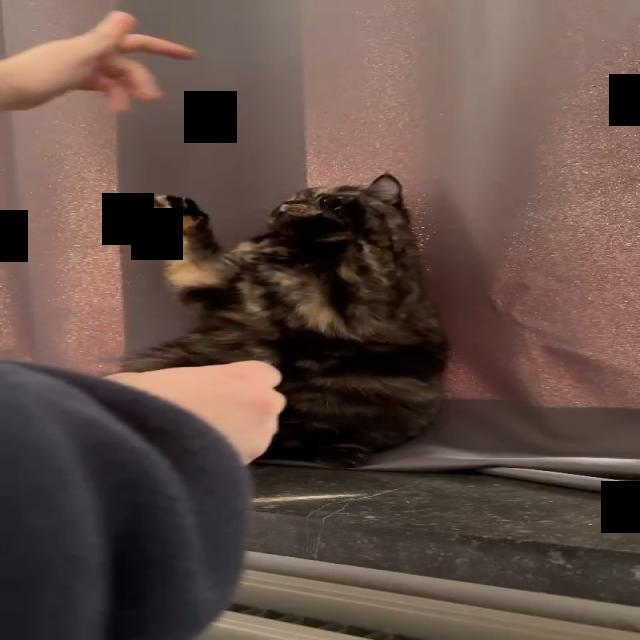authorized: (116, 171, 451, 469)
